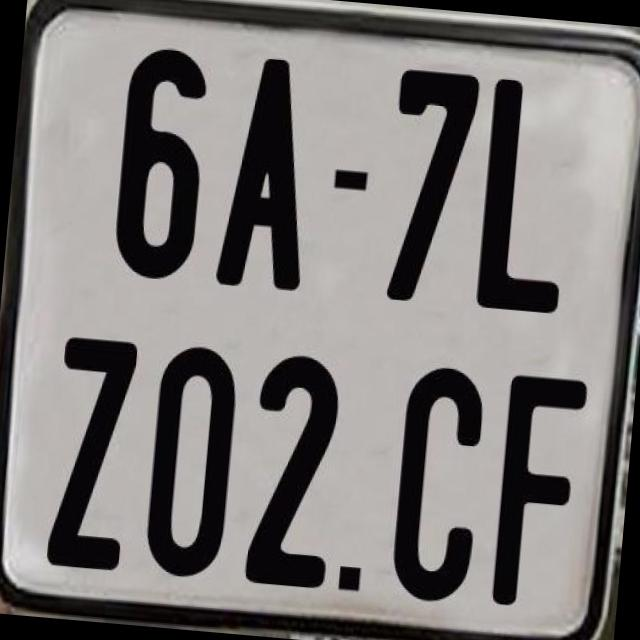0: (141, 343, 241, 580)
2: (238, 349, 348, 596)
6: (109, 40, 209, 278)
7: (377, 65, 477, 303)
A: (213, 54, 321, 296)
C: (387, 360, 486, 609)
F: (488, 370, 588, 608)
L: (474, 76, 582, 312)
Z: (40, 334, 134, 578)
